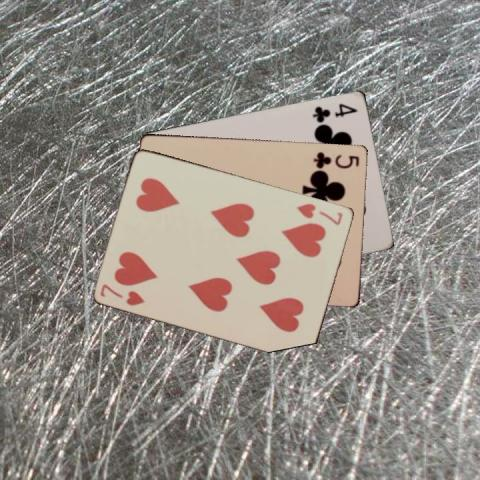4c: (309, 100, 359, 123)
5c: (310, 148, 360, 168)
7h: (293, 200, 345, 227), (97, 281, 147, 307)
